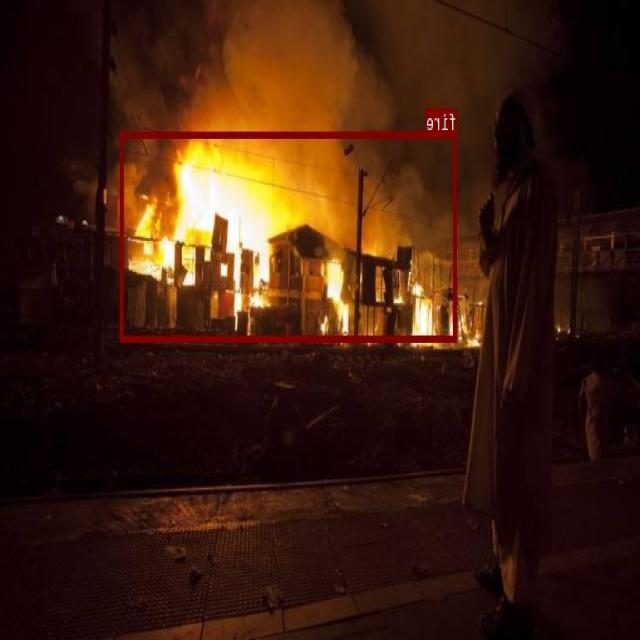fire: (120, 131, 458, 340)
